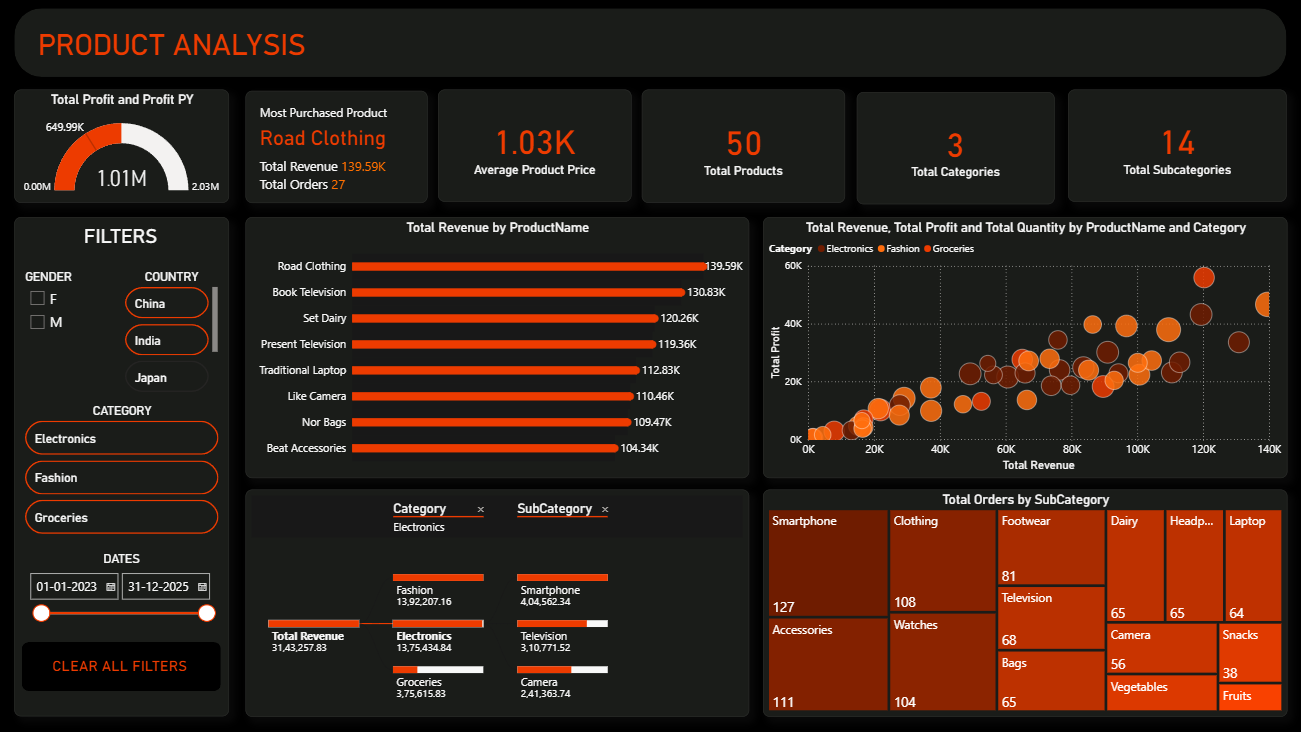

Layout of this report page (visuals, bound fields, positions):
{"tool":"powerbi","page":{"name":"Product Analysis","canvas":[1920,1080],"ordinal":1},"visuals":[{"type":"shape","box":[24.7,16.5,1866.9,100.9],"z":0},{"type":"clusteredBarChart","fields":{"Category":["products.ProductName"],"Y":["Measures Table.Total Revenue"]},"box":[362.3,323.2,738.9,382.8],"z":1000},{"type":"decompositionTreeVisual","fields":{"ExplainBy":["products.Category","products.SubCategory"],"Analyze":["Measures Table.Total Revenue"]},"box":[362.3,722.5,738.9,333.4],"z":2000},{"type":"treemap","fields":{"Group":["products.Category","products.SubCategory"],"Values":["Measures Table.Total Orders"]},"box":[1121.8,722.5,769.8,333.4],"z":3000},{"type":"scatterChart","fields":{"Y":["Measures Table.Total Profit"],"X":["Measures Table.Total Revenue"],"Category":["products.ProductName"],"Size":["Measures Table.Total Quantity"],"Series":["products.Category"]},"box":[1121.8,323.2,769.8,382.8],"z":4000},{"type":"textbox","box":[53.5,41.2,504.3,59.7],"z":5000},{"type":"group","id":"g1","title":"Group 1","box":[24.7,323.2,314.9,732.8],"z":6000},{"type":"gauge","fields":{"Y":["Measures Table.Total Profit"],"TargetValue":["Measures Table.Profir PY"]},"box":[24.7,135.8,314.9,166.7],"z":7000},{"type":"cardVisual","fields":{"Data":["Min(products.ProductName)"]},"box":[362.3,137.9,267.6,164.7],"z":8000},{"type":"card","fields":{"Values":["Measures Table.Total Products"]},"box":[944.8,135.8,298.5,166.7],"z":9000},{"type":"card","fields":{"Values":["Measures Table.Total Categories"]},"box":[1259.7,140,290.2,164.7],"z":10000},{"type":"shape","box":[24.7,323.2,314.9,732.8],"z":10000,"group":"g1"},{"type":"card","fields":{"Values":["Measures Table.Total Subcategories"]},"box":[1570.5,135.8,321.1,164.7],"z":11000},{"type":"card","fields":{"Values":["Measures Table.Average Product Price"]},"box":[646.3,135.8,284,164.7],"z":12000},{"type":"advancedSlicerVisual","title":"COUNTRY","fields":{"Values":["stores.Country"]},"box":[183.2,399.4,146.1,187.3],"z":12000,"group":"g1"},{"type":"advancedSlicerVisual","title":"CATEGORY","fields":{"Values":["products.Category"]},"box":[35,597,294.3,199.7],"z":13000,"group":"g1"},{"type":"slicer","title":"GENDER","fields":{"Values":["customers.Gender"]},"box":[35,399.4,148.2,160.5],"z":14000,"group":"g1"},{"type":"slicer","title":"DATES","fields":{"Values":["Dates.Date"]},"box":[35,815.1,292.3,117.3],"z":15000,"group":"g1"},{"type":"shape","title":"CLEAR ALL FILTER","box":[35,946.9,292.3,72],"z":16000,"group":"g1"},{"type":"textbox","box":[53.5,965.4,253.2,35],"z":17000,"group":"g1"},{"type":"textbox","box":[39.1,328,282,43.2],"z":18000,"group":"g1"}]}

Visuals, with their boxes in screenshot pixels (x1, y1, x2, y2), scaled from the page's 1920x1080 canvas onto the 1301x732 screenshot:
shape: x1=17 y1=11 x2=1282 y2=80
clusteredBarChart - products.ProductName x Measures Table.Total Revenue: x1=245 y1=219 x2=746 y2=479
decompositionTreeVisual - products.Category x products.SubCategory: x1=245 y1=490 x2=746 y2=716
treemap - products.Category x products.SubCategory: x1=760 y1=490 x2=1282 y2=716
scatterChart - Measures Table.Total Profit x Measures Table.Total Revenue: x1=760 y1=219 x2=1282 y2=479
textbox: x1=36 y1=28 x2=378 y2=68
"Group 1" group: x1=17 y1=219 x2=230 y2=716
gauge - Measures Table.Total Profit x Measures Table.Profir PY: x1=17 y1=92 x2=230 y2=205
cardVisual - Min(products.ProductName): x1=245 y1=93 x2=427 y2=205
card - Measures Table.Total Products: x1=640 y1=92 x2=842 y2=205
card - Measures Table.Total Categories: x1=854 y1=95 x2=1050 y2=207
shape: x1=17 y1=219 x2=230 y2=716
card - Measures Table.Total Subcategories: x1=1064 y1=92 x2=1282 y2=204
card - Measures Table.Average Product Price: x1=438 y1=92 x2=630 y2=204
"COUNTRY" advancedSlicerVisual: x1=124 y1=271 x2=223 y2=398
"CATEGORY" advancedSlicerVisual: x1=24 y1=405 x2=223 y2=540
"GENDER" slicer: x1=24 y1=271 x2=124 y2=379
"DATES" slicer: x1=24 y1=552 x2=222 y2=632
"CLEAR ALL FILTER" shape: x1=24 y1=642 x2=222 y2=691
textbox: x1=36 y1=654 x2=208 y2=678
textbox: x1=26 y1=222 x2=218 y2=252
